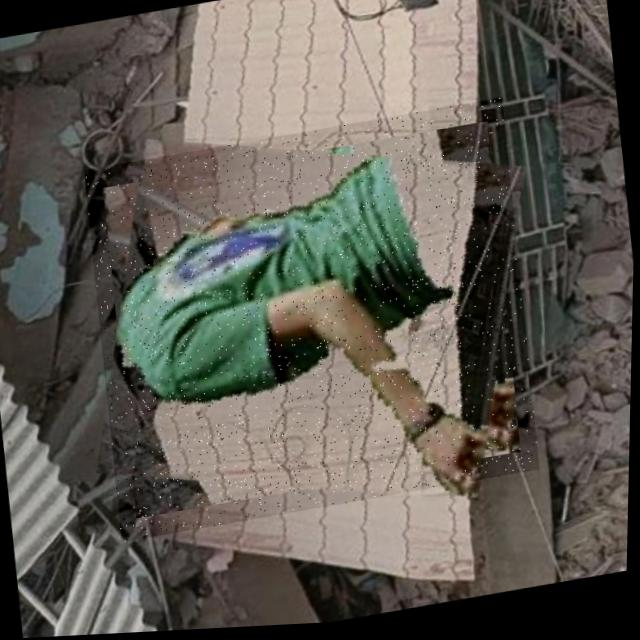Person in Rubble: (78, 100, 548, 544)
